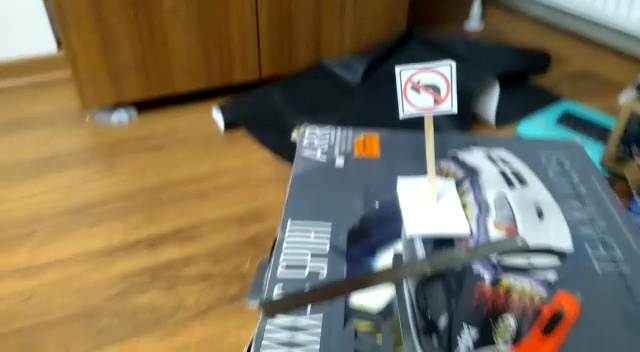sola_donulmez: (401, 65, 451, 115)
